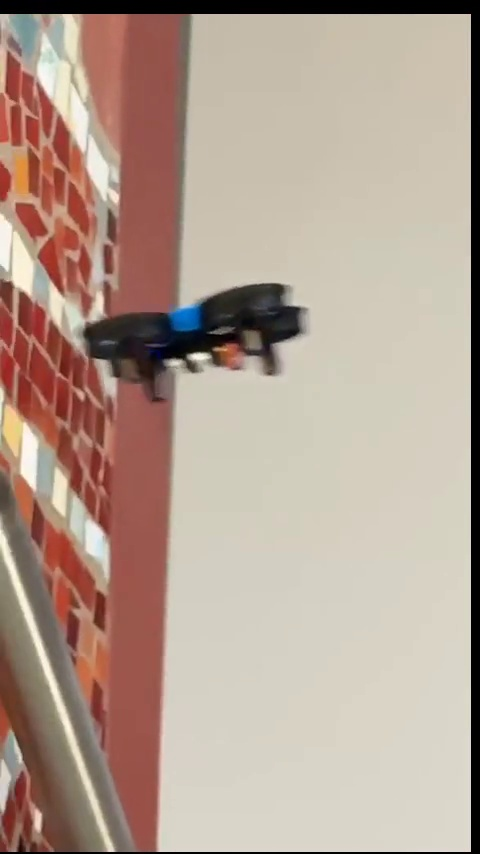drone: (88, 285, 306, 400)
